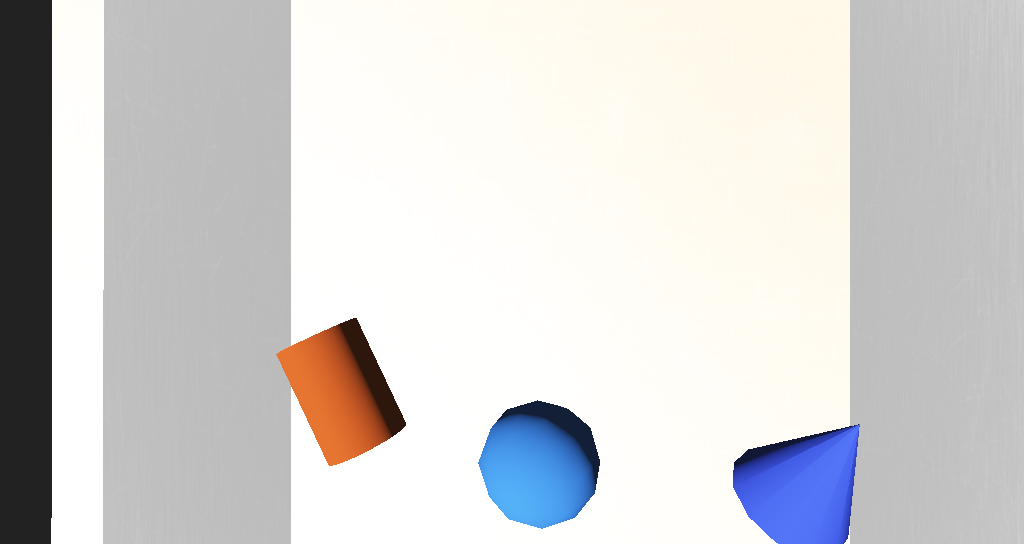cone: (347, 282, 421, 339)
cylinder: (586, 301, 680, 377)
sphere: (451, 317, 519, 360)
